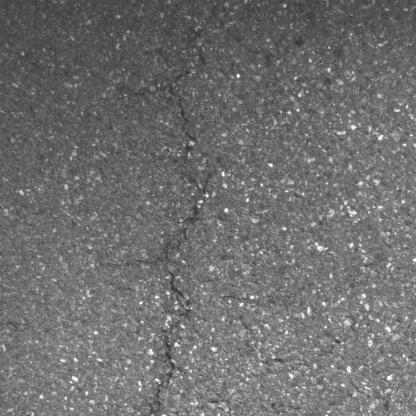Cracks: (145, 49, 218, 416)
